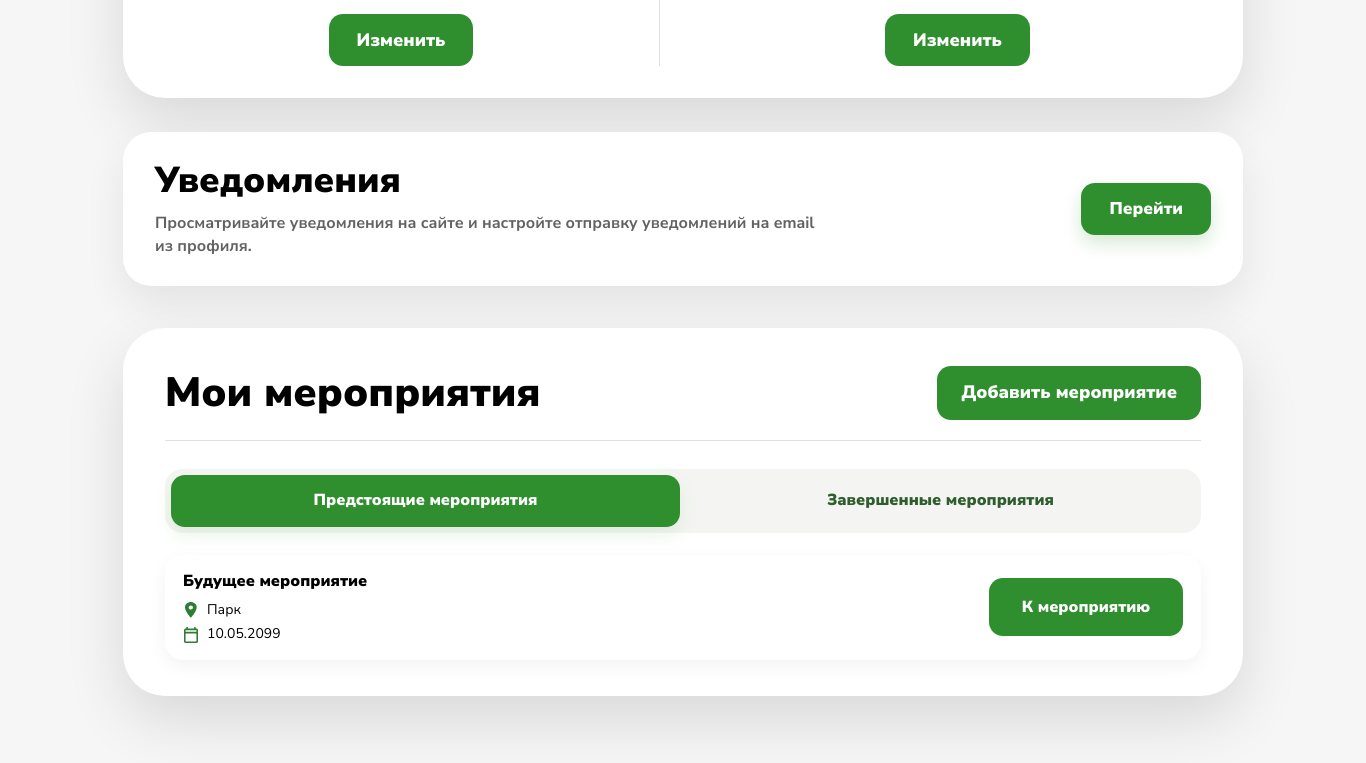
Test: ProfilePage › switches between upcoming and completed coordinator events with confirmation statuses
(page scrolled)
Expected: the heading "Будущее мероприятие" is shown, [183,570,367,590]
Expected: the text "Подтвержденное мероприятие" is not shown
Click the tab "Завершенные мероприятия" at [940, 500], box [686,474,1195,526]
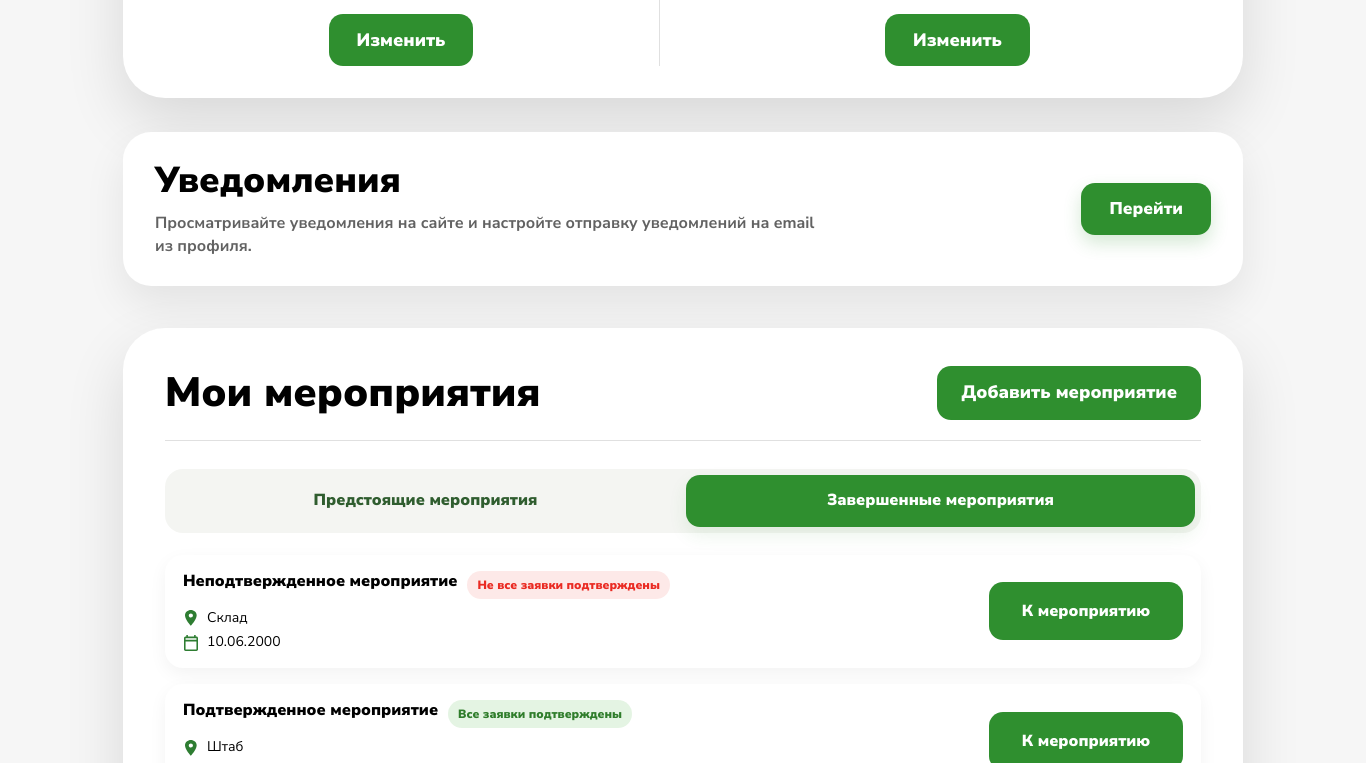
Now the heading "Неподтвержденное мероприятие" is shown, box [183,570,457,590]
Now the heading "Подтвержденное мероприятие" is shown, box [183,700,438,720]
Now the text "Все заявки подтверждены" is shown, box [448,700,632,728]
Click the tab "Предстоящие мероприятия" at [426, 500], box [171,474,680,526]
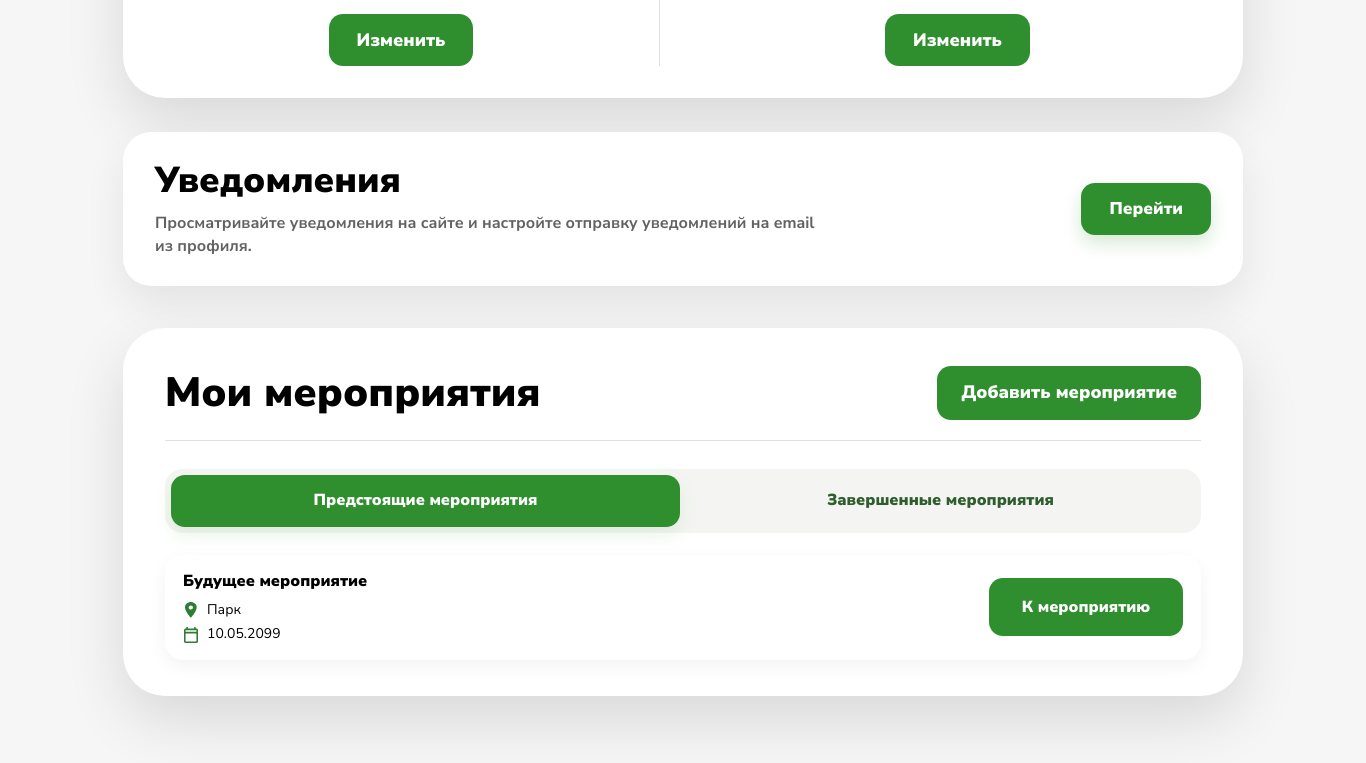
Now the heading "Будущее мероприятие" is shown, box [183,570,367,590]
